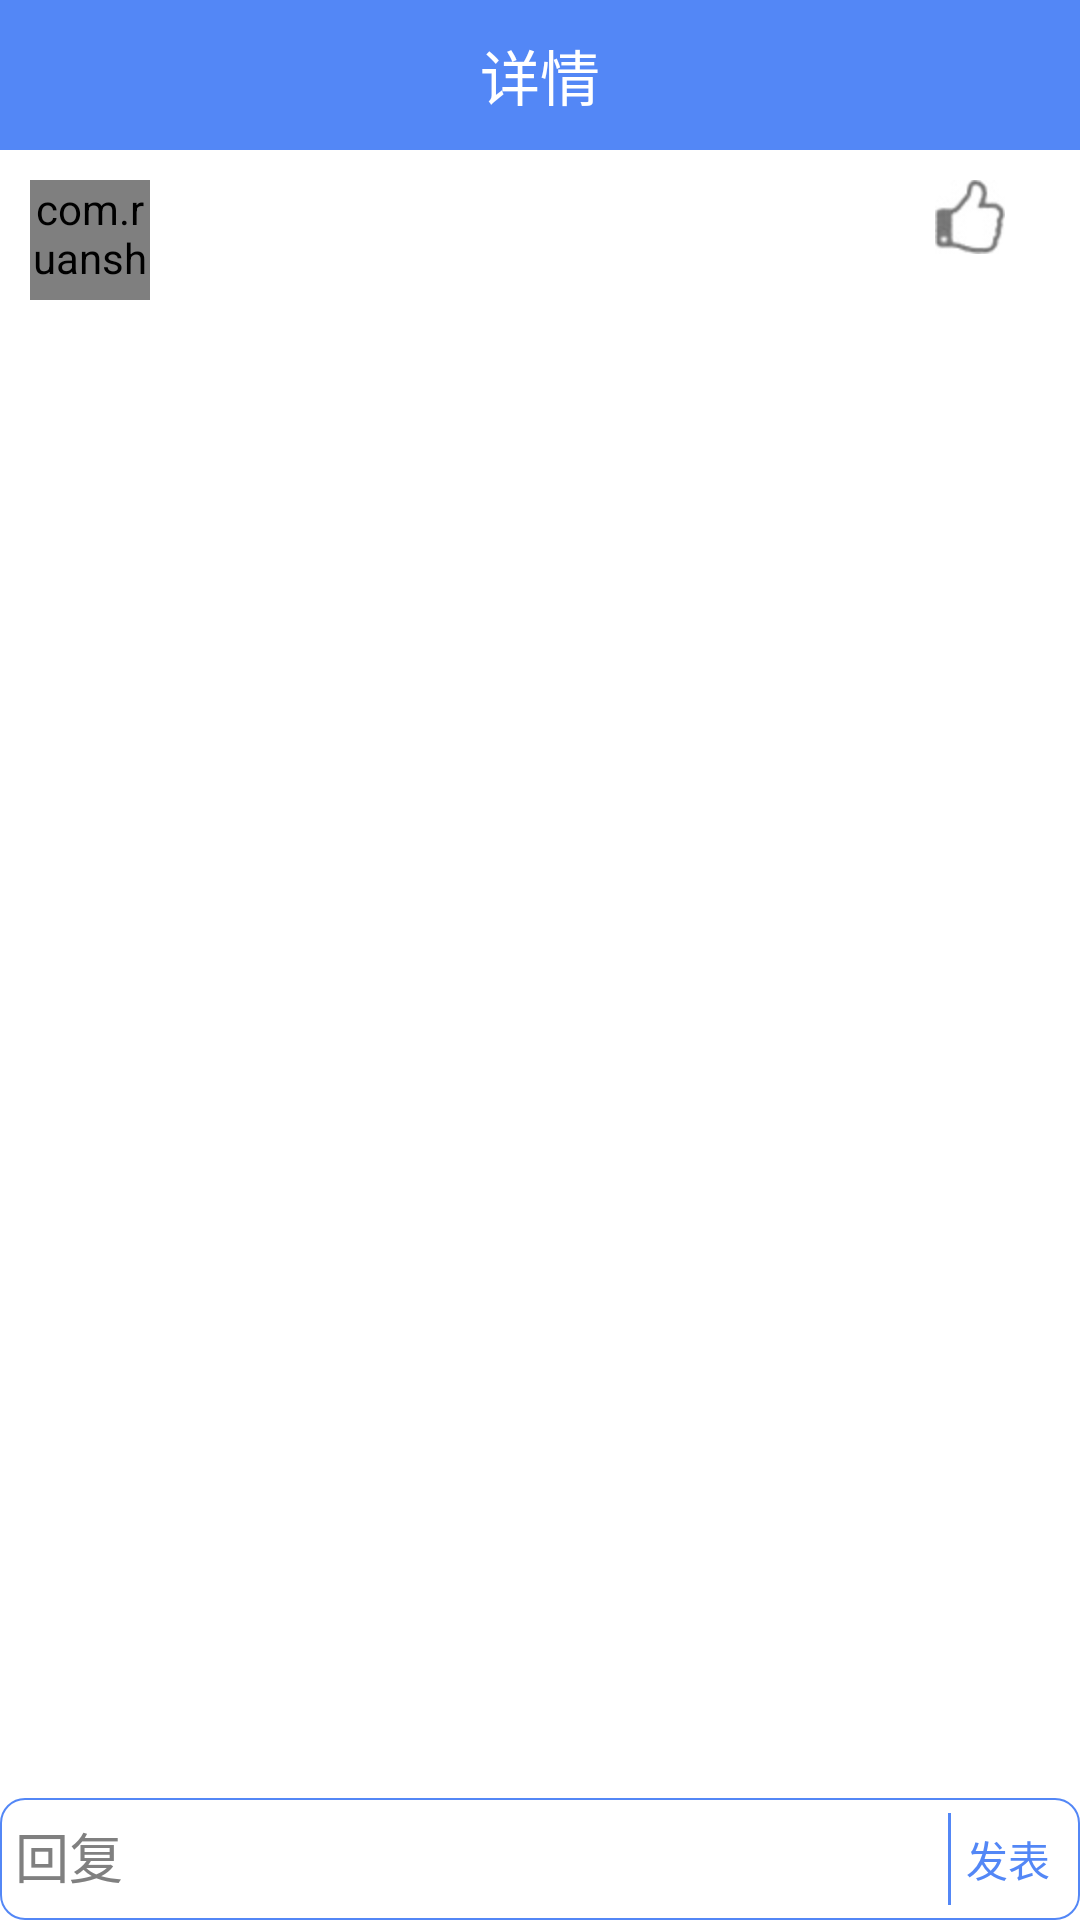

Icons on this 1080px×1920px Android screen, each with its box as [x1, y1, x2, y2]:
praise: [935, 180, 1005, 254]
